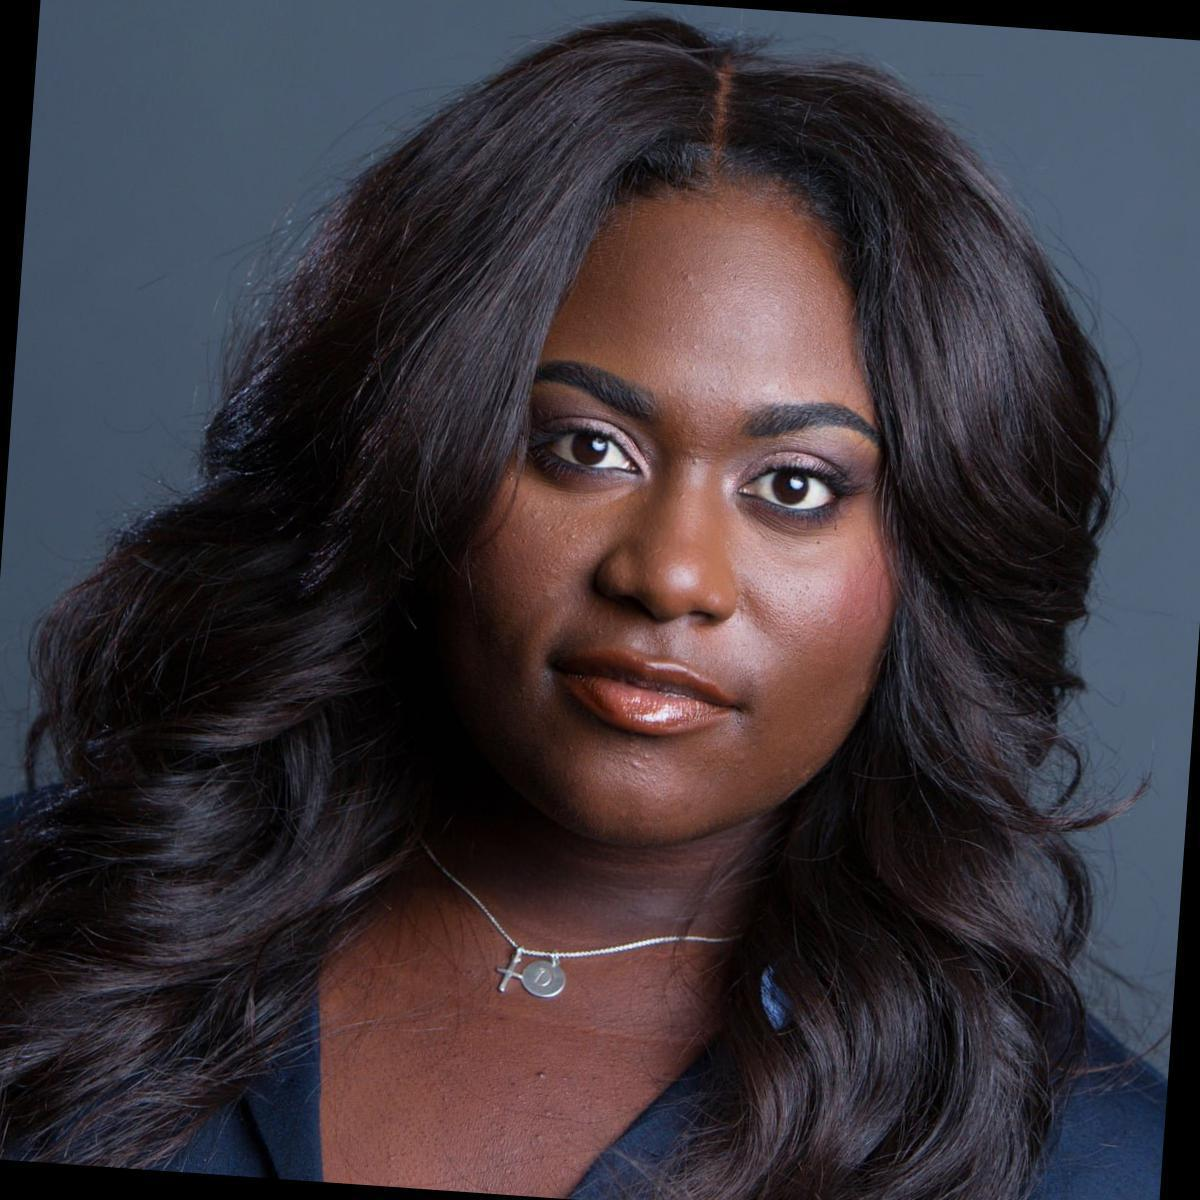Sober: (508, 198, 886, 822)
